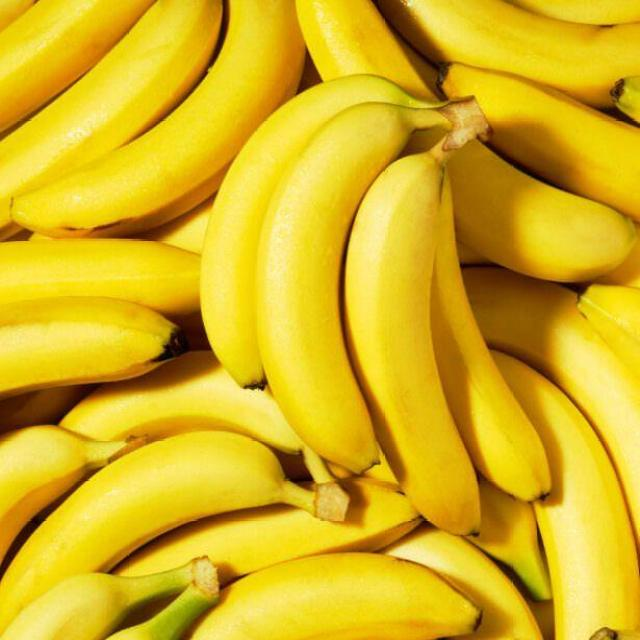banana: (197, 80, 562, 542), (293, 0, 640, 291), (0, 424, 359, 639), (1, 0, 312, 245), (466, 350, 640, 640), (0, 0, 224, 222), (430, 59, 640, 230), (0, 541, 226, 640)
